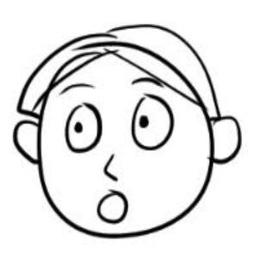ear: (199, 112, 247, 166), (11, 119, 41, 164)
eye: (128, 92, 179, 153), (65, 102, 105, 153)
eyebrow: (130, 75, 165, 90), (60, 82, 98, 93)
open_mouth: (94, 187, 134, 226)
pointy_nose: (100, 152, 121, 181)
